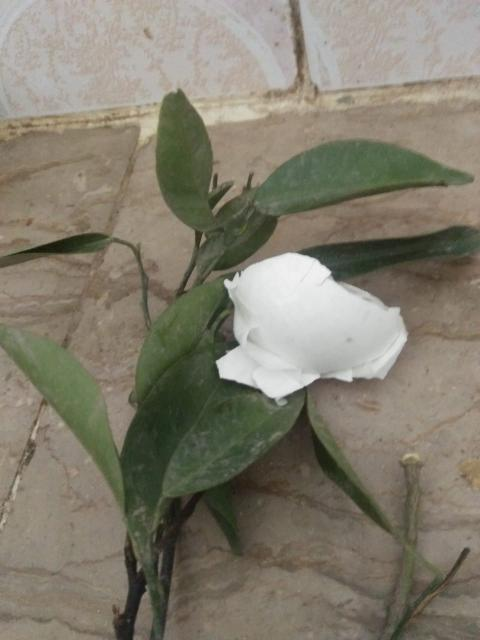Roto: (214, 250, 409, 404)
